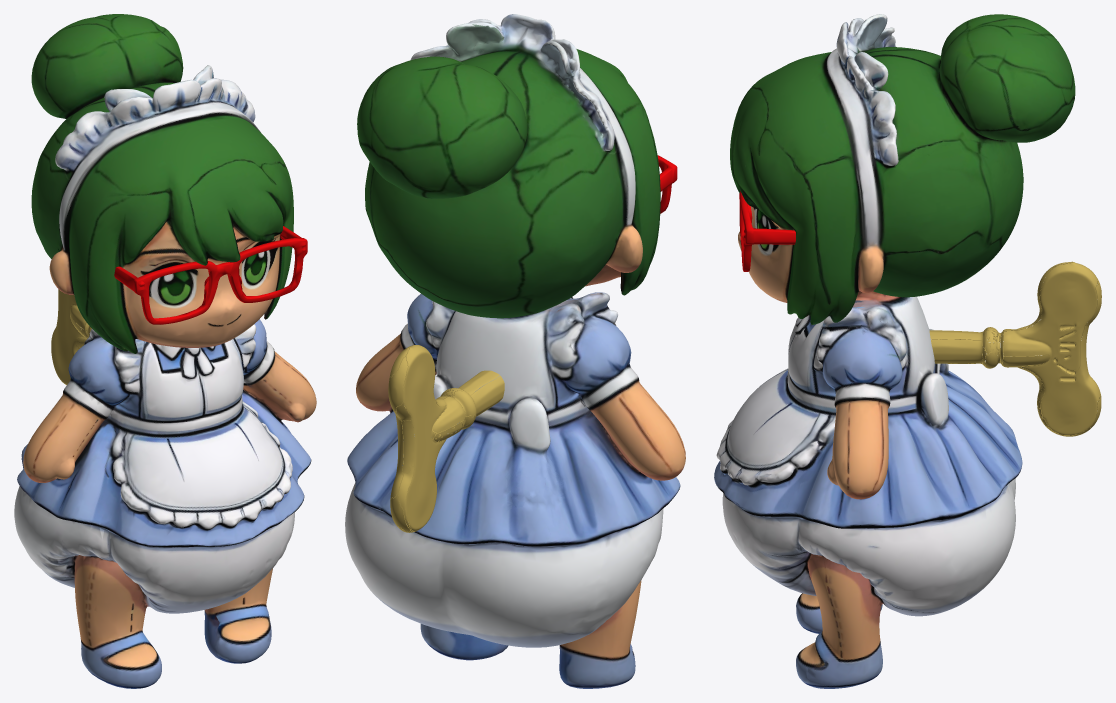
The model's file is Maid Mayu.glb.
3 renders of one model, left to right at view 1: azimuth 30°, elevation 25°; view 2: azimuth 150°, elevation 25°; view 3: azimuth 270°, elevation 25°, orthographic. The views are drawn at different scales.
Parts seen in each view (by area): view 1: temp_mesh.ply, temp_mesh.ply.001, temp_mesh.ply.002; view 2: temp_mesh.ply, temp_mesh.ply.002, temp_mesh.ply.001; view 3: temp_mesh.ply, temp_mesh.ply.002, temp_mesh.ply.001.
Boxes of the visible parts, x1,y1,x2,y2 form: temp_mesh.ply: (14, 14, 316, 688); temp_mesh.ply.001: (114, 226, 307, 324); temp_mesh.ply.002: (51, 289, 91, 385); temp_mesh.ply: (345, 14, 685, 688); temp_mesh.ply.002: (388, 345, 504, 532); temp_mesh.ply.001: (657, 155, 677, 213); temp_mesh.ply: (714, 14, 1075, 688); temp_mesh.ply.002: (929, 261, 1101, 436); temp_mesh.ply.001: (739, 191, 795, 271).
Bounding box in the file's own units: 1 × 1.96 × 1.09.
3 materials, 1 textured.
